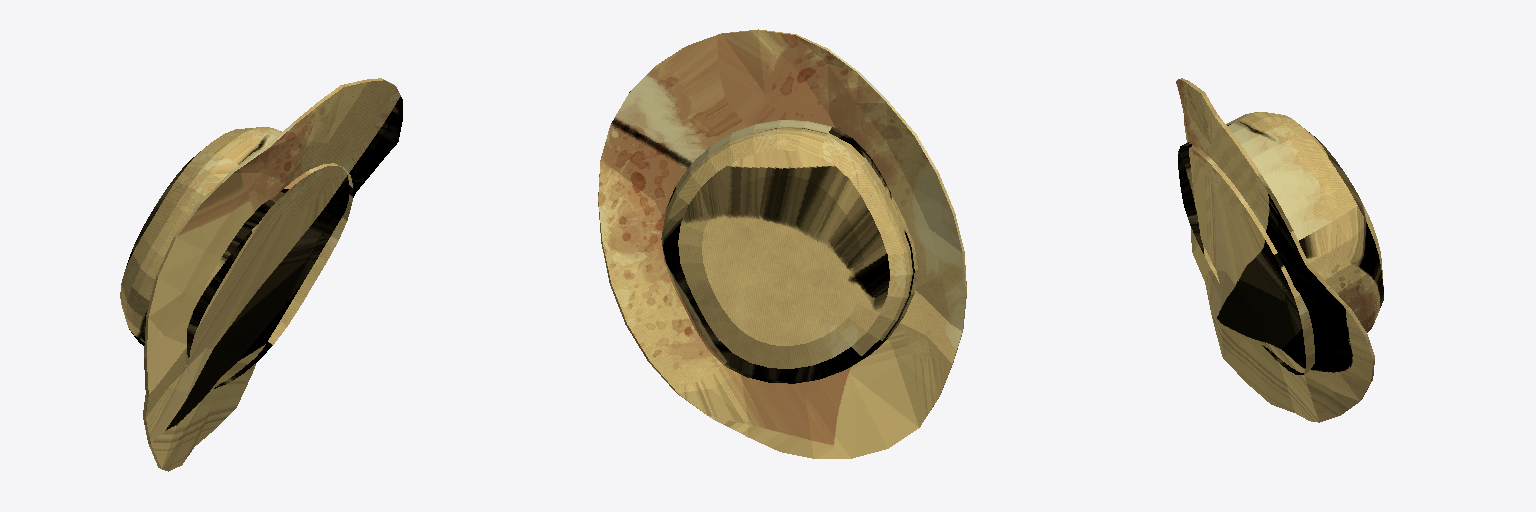
3 renders of one model, left to right at view 1: azimuth 30°, elevation 25°; view 2: azimuth 150°, elevation 25°; view 3: azimuth 270°, elevation 25°, orthographic.
Parts seen in each view (by area): view 1: Plane.014; view 2: Plane.014; view 3: Plane.014.
Boxes of the visible parts, x1,y1,x2,y2 form: Plane.014: [120, 78, 402, 471]; Plane.014: [598, 29, 966, 458]; Plane.014: [1176, 78, 1383, 422].
Bounding box in the file's own units: 0.2614 × 0.3006 × 0.1519.
1 materials, 1 textured.